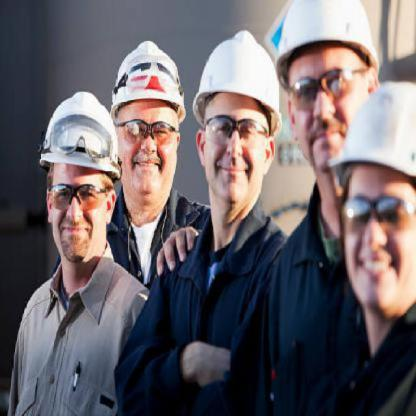glass: (280, 65, 358, 111), (202, 111, 268, 148), (119, 111, 180, 147), (48, 180, 110, 211)
person: (6, 88, 147, 410), (170, 29, 287, 406), (314, 76, 415, 405), (102, 36, 209, 283)
white-helm: (185, 26, 287, 134), (318, 78, 416, 190), (266, 2, 389, 80), (28, 86, 123, 183), (108, 36, 188, 118)
